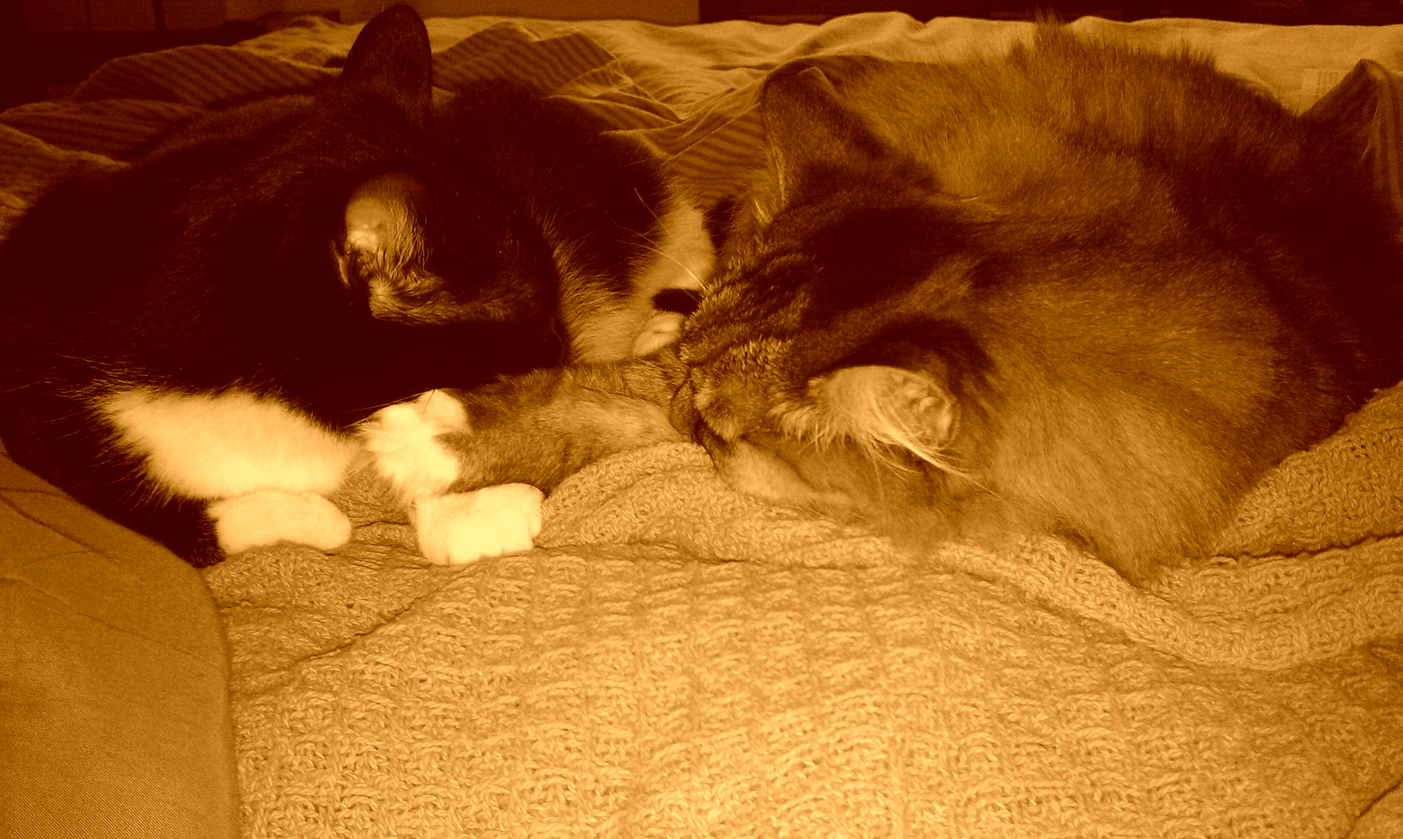cat: (606, 7, 1402, 586), (0, 0, 716, 566)
